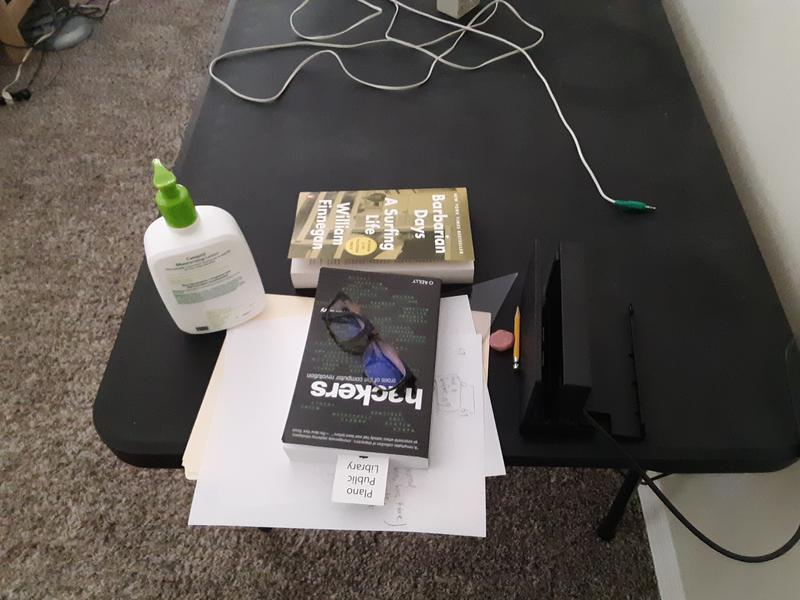glasses: (322, 291, 410, 393)
